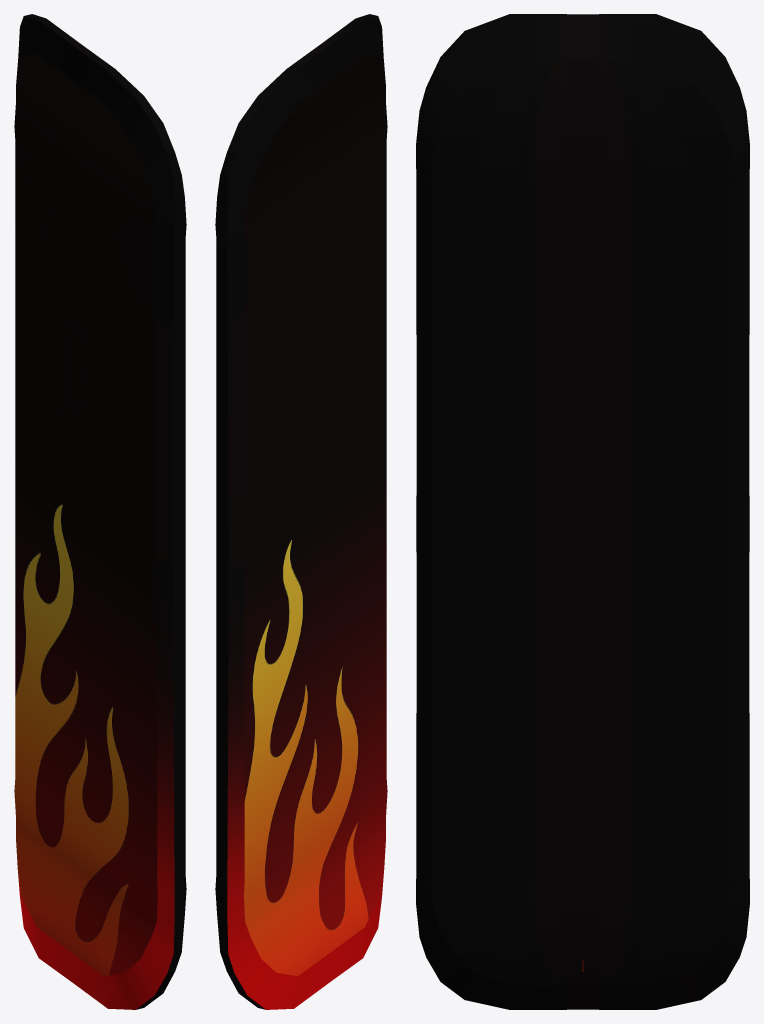
Rendered from subway surfers hoverboard.glb.
3 renders of one model, left to right at view 1: azimuth 30°, elevation 25°; view 2: azimuth 150°, elevation 25°; view 3: azimuth 270°, elevation 25°, orthographic. The views are drawn at different scales.
Visible parts, largest first — view 1: Cube.003, Cube.004, Cube.002; view 2: Cube.003, Cube.004, Cube.002; view 3: Cube.002, Cube.004.
Boxes of the visible parts, box(x1,y1,x2,y2) form: Cube.003: box(14, 54, 157, 975); Cube.004: box(16, 16, 174, 1009); Cube.002: box(24, 14, 186, 1009); Cube.003: box(244, 54, 387, 975); Cube.004: box(227, 16, 385, 1009); Cube.002: box(215, 14, 377, 1009); Cube.002: box(416, 14, 749, 1009); Cube.004: box(419, 527, 746, 1009).
Bounding box in the file's own units: 0.1654 × 3.35 × 1.02.
2 materials, 2 textured.
